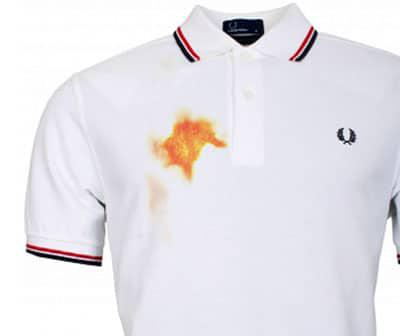gun: (148, 122, 226, 170), (136, 181, 180, 223)
